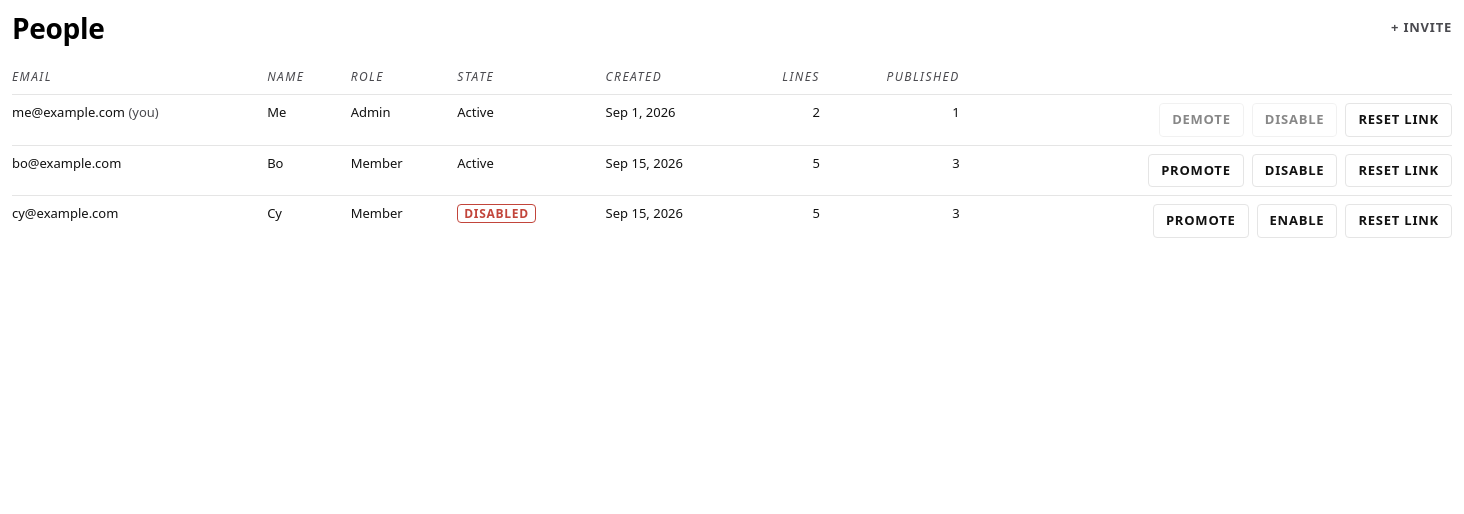
Test: AdminPeople › inviting › creates the account and shows its link, then reads the list again
This screenshot has width=1464, height=514.
Click the button with test id "invite-open" at (1422, 28), box [1391, 18, 1452, 38]
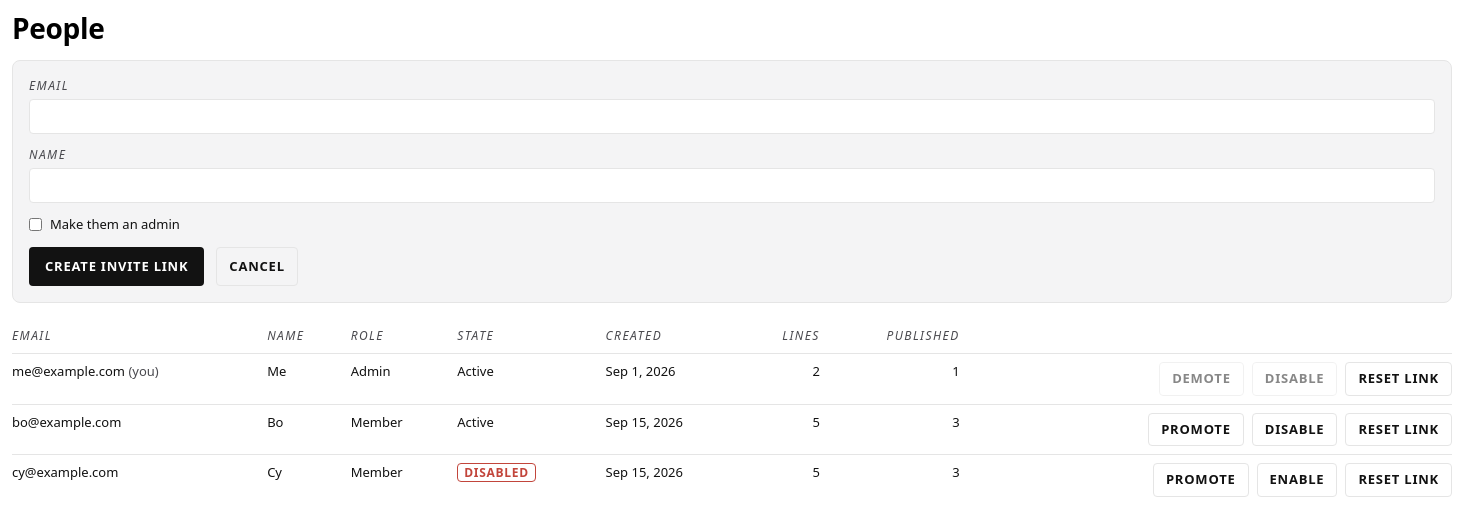
Type " di@example.com " into the field with test id "invite-email" at (732, 117), box [29, 99, 1435, 134]
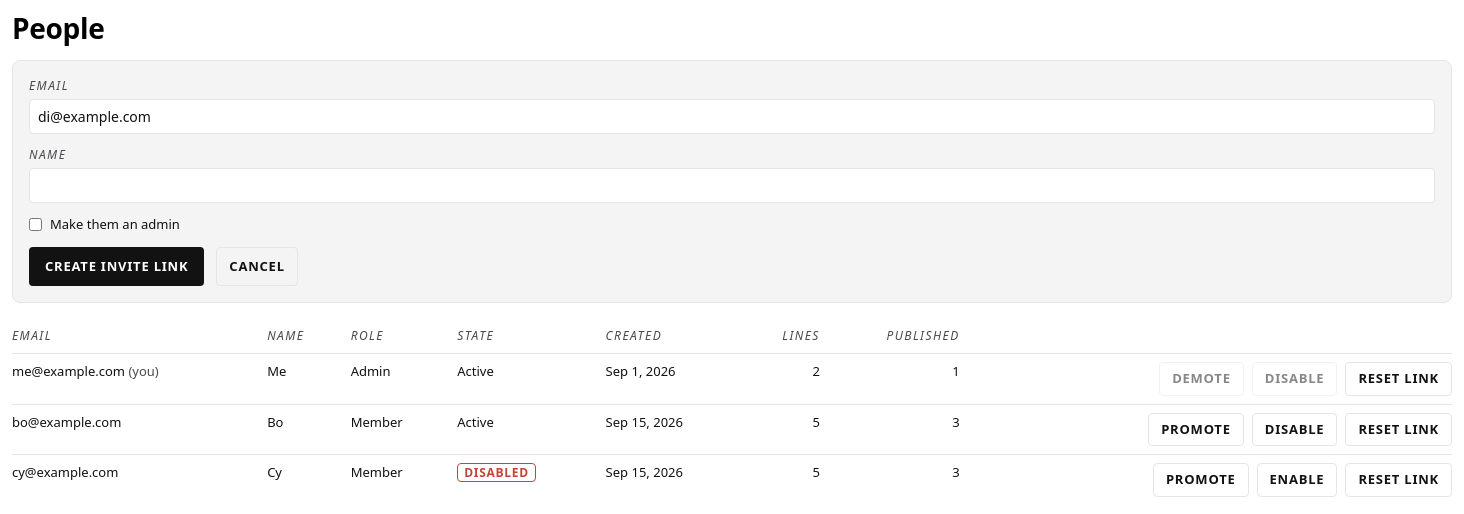
Type "Di" into the field with test id "invite-name" at (732, 186), box [29, 168, 1435, 203]
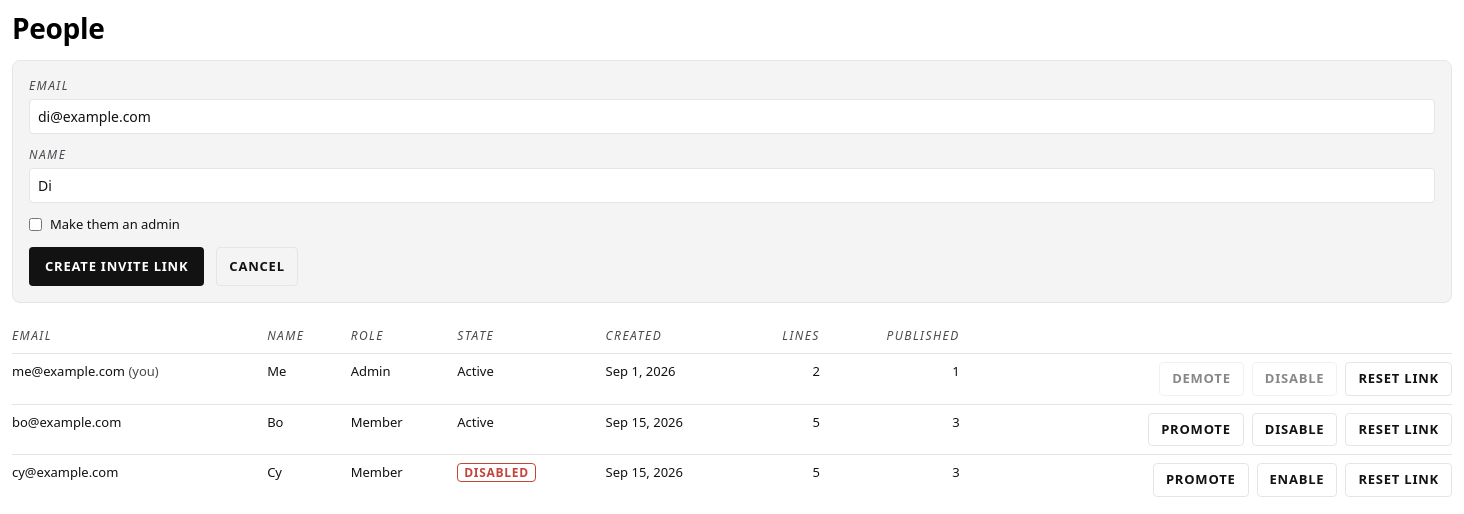
Click the checkbox with test id "invite-admin" at (36, 225), box [29, 218, 42, 231]
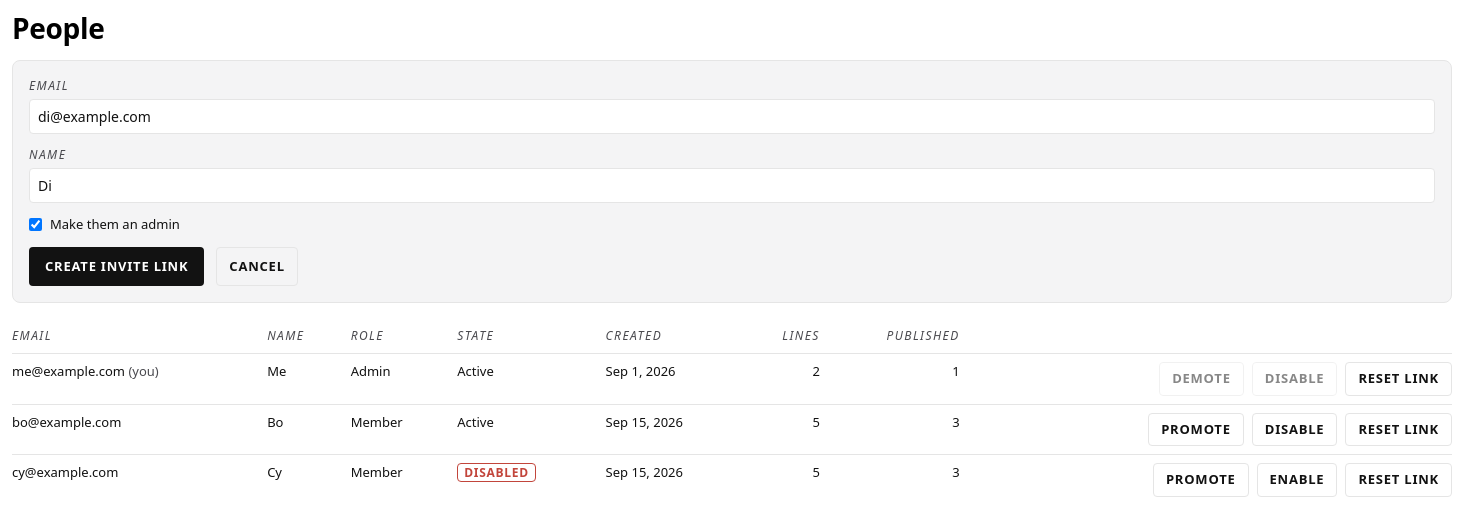
Submit the form with test id "invite-form", box [12, 60, 1452, 303]
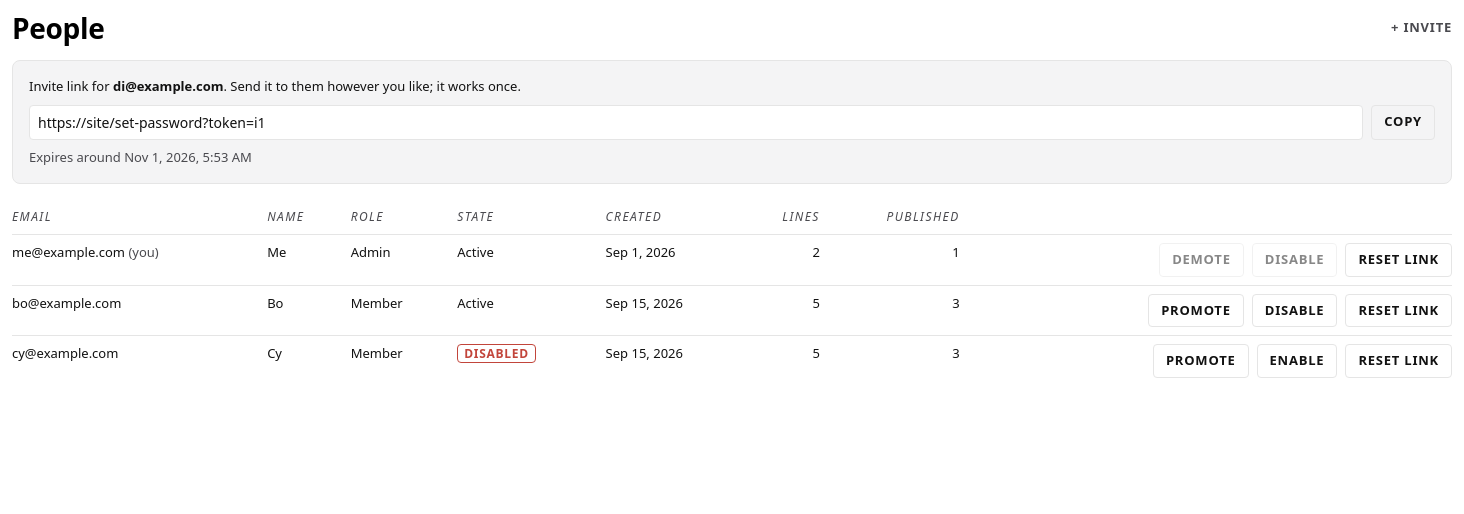
Expected: the element with test id "issued-link" shows "di@example.com", [113, 77, 224, 95]
Expected: the field named "Invite link for di@example.com" holds "https://site/set-password?token=i1", [29, 105, 1363, 140]
